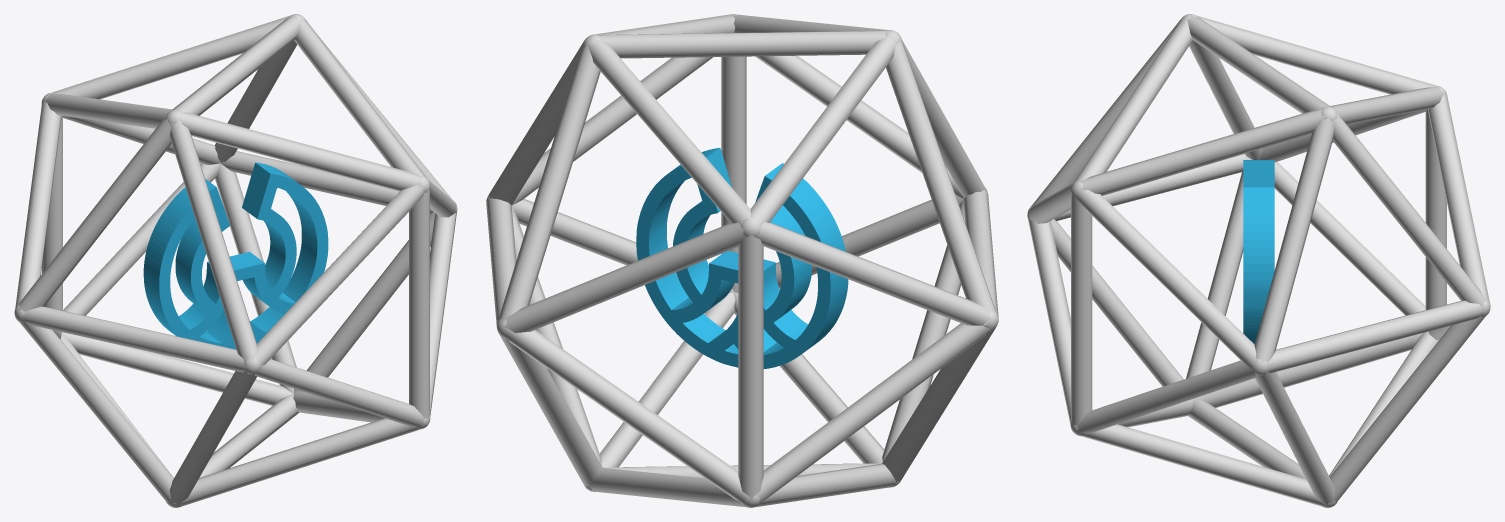
The model's file is new-scot-3d-Cnedy8kK.glb.
3 renders of one model, left to right at view 1: azimuth 30°, elevation 25°; view 2: azimuth 150°, elevation 25°; view 3: azimuth 270°, elevation 25°, orthographic. The views are drawn at different scales.
Bounding box in the file's own units: 2.09 × 1.79 × 1.88.
